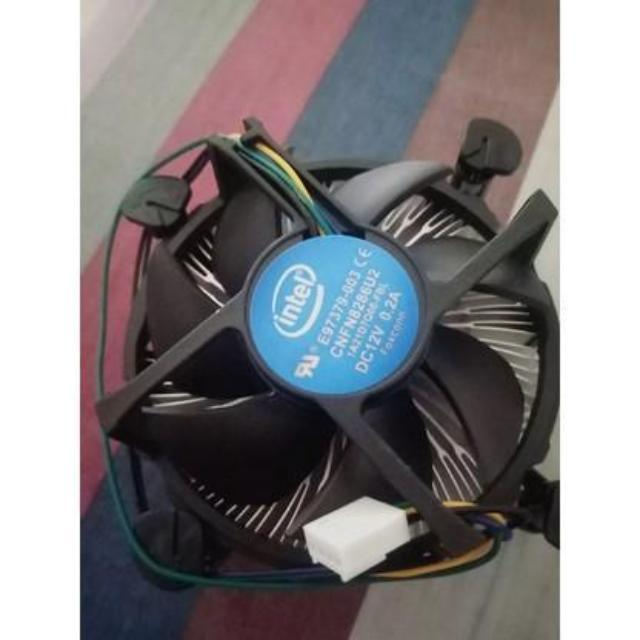CPU_Fan: (129, 119, 546, 564)
